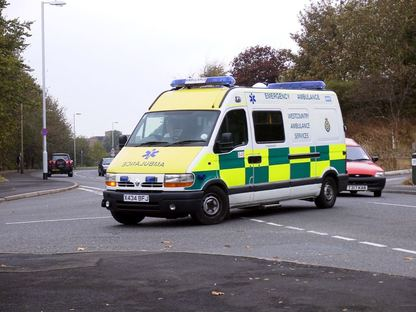ambulance: (100, 76, 350, 223)
